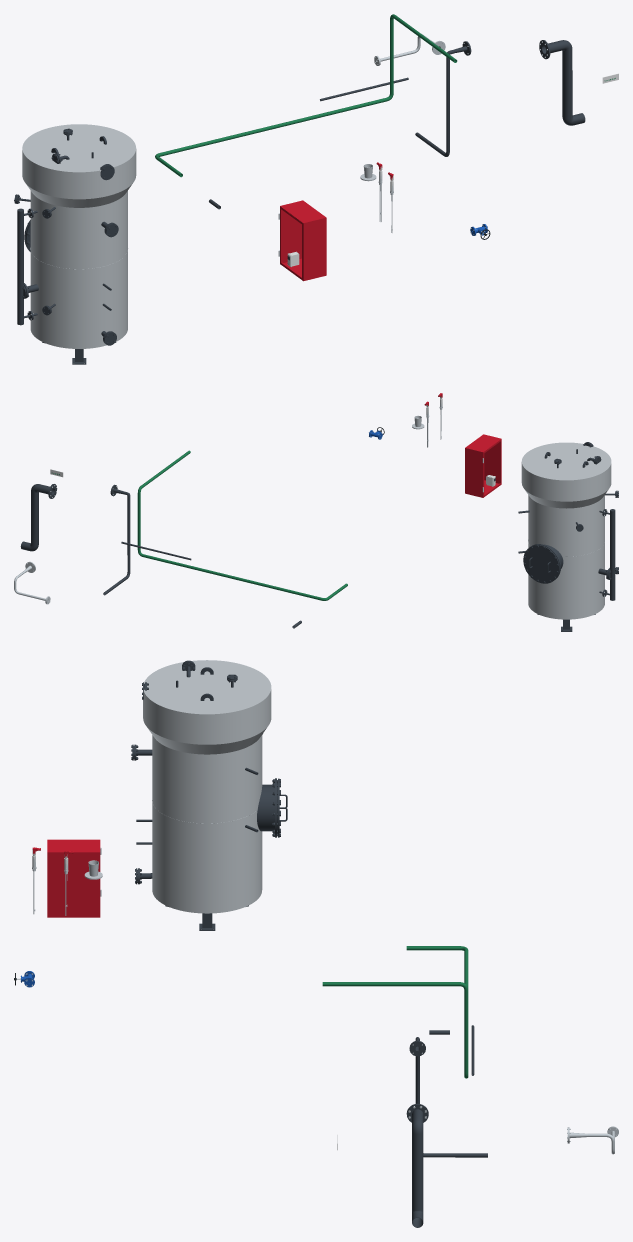
3 views of the same model, one above another, from view 1: azimuth 30°, elevation 25°; view 2: azimuth 150°, elevation 25°; view 3: azimuth 270°, elevation 25° (orthographic). The views are drawn at different scales.
Visible parts, largest first — view 1: deaerator / shell, control_cabinet / control_cabinet_0.npz, to_economizer / green, bdv_water_drain / dark, deaerator / dark, bottom_to_bdv / dark; view 2: deaerator / shell, control_cabinet / control_cabinet_0.npz, to_economizer / green, DA3 CAD 76, bdv_water_drain / dark, deaerator / dark, bottom_to_bdv / dark; view 3: deaerator / shell, control_cabinet / control_cabinet_0.npz, to_economizer / green, bdv_water_drain / dark, bottom_to_bdv / dark.
Boxes of the visible parts, x1,y1,x2,y2 form: deaerator / shell: (22, 124, 136, 348); control_cabinet / control_cabinet_0.npz: (278, 200, 326, 281); to_economizer / green: (155, 14, 457, 177); bdv_water_drain / dark: (539, 40, 585, 125); deaerator / dark: (17, 208, 37, 325); bottom_to_bdv / dark: (415, 41, 471, 156); deaerator / shell: (521, 442, 611, 619); control_cabinet / control_cabinet_0.npz: (465, 434, 501, 497); to_economizer / green: (137, 450, 347, 600); DA3 CAD 76: (523, 544, 559, 583); bdv_water_drain / dark: (20, 484, 57, 551); deaerator / dark: (599, 509, 615, 600); bottom_to_bdv / dark: (103, 484, 130, 595); deaerator / shell: (143, 660, 271, 913); control_cabinet / control_cabinet_0.npz: (47, 839, 101, 917); to_economizer / green: (322, 946, 468, 1078); bdv_water_drain / dark: (406, 1103, 428, 1227); bottom_to_bdv / dark: (409, 1037, 487, 1157).
Bounding box in the file's own units: 8.55 × 2.6 × 6.04.
